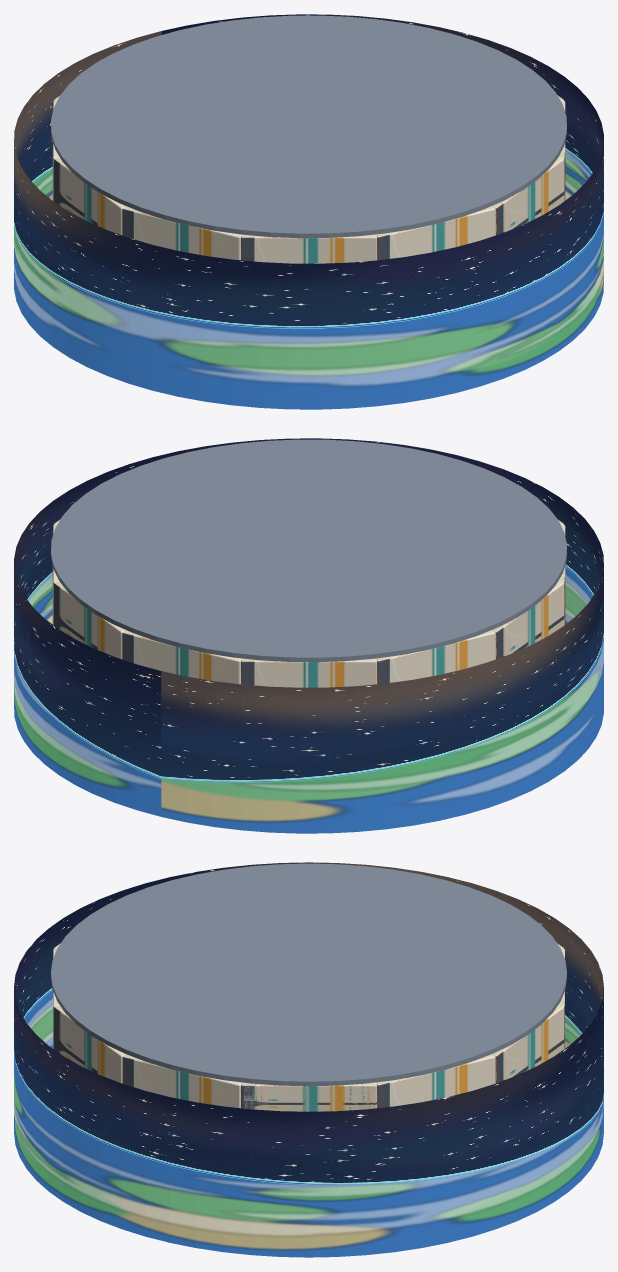
The model's file is space-bay.glb.
3 renders of one model, top to bottom at view 1: azimuth 30°, elevation 25°; view 2: azimuth 150°, elevation 25°; view 3: azimuth 270°, elevation 25°, orthographic.
Parts seen in each view (by area): view 1: VistaEarth, Ceiling, WallPanel11, WallPanel0, WallPanel10, WallWin1_Header, WallWin9_Header; view 2: VistaEarth, Ceiling, WallPanel7, WallPanel6, WallPanel8, WallWin5_Header, WallWin9_Header; view 3: VistaEarth, Ceiling, DoorHeader, WallPanel2, WallPanel4, WallWin1_Header, WallWin5_Header.
Boxes of the visible parts, <box> form: VistaEarth: <box>14,14,603,409</box>; Ceiling: <box>51,15,566,238</box>; WallPanel11: <box>241,234,376,263</box>; WallPanel0: <box>376,206,495,260</box>; WallPanel10: <box>122,206,241,260</box>; WallWin1_Header: <box>492,157,564,235</box>; WallWin9_Header: <box>53,157,125,235</box>; VistaEarth: <box>14,438,603,833</box>; Ceiling: <box>51,439,566,662</box>; WallPanel7: <box>241,658,376,687</box>; WallPanel6: <box>122,630,241,684</box>; WallPanel8: <box>376,630,495,684</box>; WallWin5_Header: <box>53,581,125,659</box>; WallWin9_Header: <box>492,581,564,659</box>; VistaEarth: <box>14,862,603,1257</box>; Ceiling: <box>51,863,566,1086</box>; DoorHeader: <box>241,1082,376,1111</box>; WallPanel2: <box>122,1054,241,1108</box>; WallPanel4: <box>376,1054,495,1108</box>; WallWin1_Header: <box>53,1005,125,1083</box>; WallWin5_Header: <box>492,1005,564,1083</box>.
Bounding box in the file's own units: 35.2 × 10.55 × 35.2.
35 materials, 12 textured.
